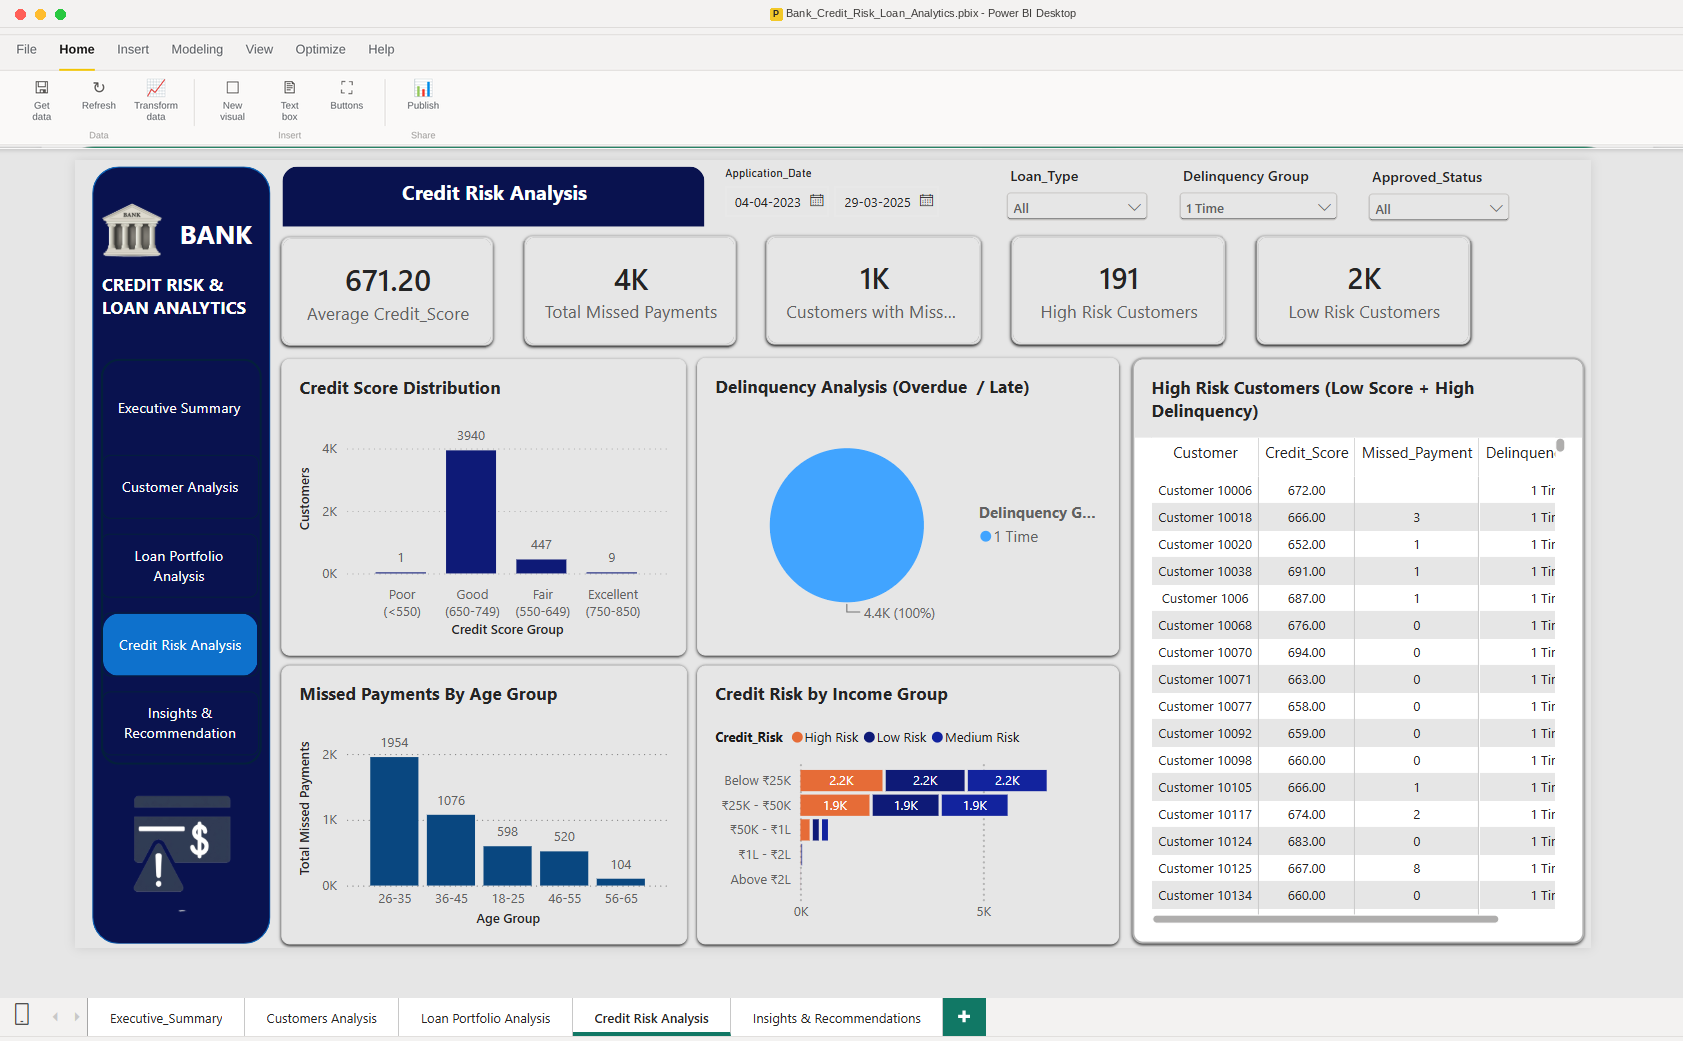

Layout of this report page (visuals, bound fields, positions):
{"tool":"powerbi","page":{"name":"Credit Risk Analysis","canvas":[1404,730],"ordinal":3},"visuals":[{"type":"shape","box":[16.4,6.2,165,720],"z":0},{"type":"image","box":[16.4,27,71.8,77],"z":1000},{"type":"textbox","box":[88.1,51.9,85.3,36.4],"z":2000},{"type":"textbox","box":[24.7,103.9,174.3,55.7],"z":3000},{"type":"shape","box":[23.9,184.1,148.7,375.5],"z":4000},{"type":"actionButton","title":"Executive Summary","box":[23.9,199.7,145,60.3],"z":5000},{"type":"actionButton","title":"Executive Summary","box":[25,272.7,145,60.3],"z":6000},{"type":"actionButton","title":"Executive Summary","box":[23.9,345.8,145,60.3],"z":7000},{"type":"actionButton","title":"Executive Summary","box":[25,418.9,145,60.3],"z":8000},{"type":"actionButton","title":"Executive Summary","box":[25,491.9,145,60.3],"z":9000},{"type":"shape","box":[192.1,6.3,390.5,55.9],"z":10000},{"type":"textbox","box":[223.8,16.9,329.3,34.8],"z":11000},{"type":"slicer","fields":{"Values":["Dim_Customer.Application_Date"]},"box":[594.1,6,233.2,64.3],"z":12000},{"type":"slicer","fields":{"Values":["Fact_loan.Loan_Type"]},"box":[858.4,5,140,60.3],"z":13000},{"type":"slicer","fields":{"Values":["Dim_Customer.Delinquency Group"]},"box":[1017.7,5.3,156.5,59.9],"z":14000},{"type":"cardVisual","fields":{"Data":["Avg(Dim_Customer.Credit_Score)"]},"box":[191,70.7,196.3,101.3],"z":15000},{"type":"slicer","fields":{"Values":["Dim_Customer.Approved_Status"]},"box":[1193.4,6.3,140,60.3],"z":16000},{"type":"cardVisual","fields":{"Data":["Sum(Fact_loan.Tot_Missed_Pmnt)"]},"box":[415.6,70.4,196.3,101.3],"z":17000},{"type":"cardVisual","fields":{"Data":["Dim_Customer.Customers with Missed Payments"]},"box":[640.1,70.4,198.6,100.9],"z":18000},{"type":"cardVisual","fields":{"Data":["Dim_Customer.High Risk Customers"]},"box":[866.9,70.4,198.6,100.9],"z":19000},{"type":"cardVisual","fields":{"Data":["Dim_Customer.Low Risk Customers"]},"box":[1093.6,70.4,198.6,100.9],"z":20000},{"type":"clusteredColumnChart","title":"Credit Score Distribution","fields":{"Category":["Dim_Customer.Credit Score Group"],"Y":["CountNonNull(Dim_Customer.PROSPECTID)"]},"box":[191.2,183.8,375,275.2],"z":21000},{"type":"pieChart","title":"Delinquency Analysis (Overdue  / Late)","fields":{"Category":["Dim_Customer.Delinquency Group"],"Y":["CountNonNull(Dim_Customer.PROSPECTID)"]},"box":[575.6,183.3,391.1,275.6],"z":22000},{"type":"tableEx","title":"High Risk Customers (Low Score + High Delinquency)","fields":{"Values":["Dim_Customer.Customer","Avg(Dim_Customer.Credit_Score)","Sum(Fact_loan.Tot_Missed_Pmnt)","Dim_Customer.Delinquency Group"]},"box":[978.9,183.3,418.9,542.2],"z":23000},{"type":"clusteredColumnChart","title":"Missed Payments By Age Group","fields":{"Category":["Dim_Customer.Age Group"],"Y":["Sum(Fact_loan.Tot_Missed_Pmnt)"]},"box":[191.1,467.8,375.6,258.9],"z":24000},{"type":"barChart","title":"Credit Risk by Income Group","fields":{"Category":["Dim_Customer.Income Group"],"Series":["Fact_loan.Credit_Risk"],"Y":["CountNonNull(Dim_Customer.PROSPECTID)"]},"box":[575.6,467.8,391.1,258.9],"z":25000}]}

Visuals, with their boxes on the page's 1404x730 design canvas (x1, y1, x2, y2). These are canvas units, not pixel positions in the 1683x1041 screenshot, which may show the page scaled, cropped or inside an application window:
shape: bbox=(16, 6, 181, 726)
image: bbox=(16, 27, 88, 104)
textbox: bbox=(88, 52, 173, 88)
textbox: bbox=(25, 104, 199, 160)
shape: bbox=(24, 184, 173, 560)
"Executive Summary" actionButton: bbox=(24, 200, 169, 260)
"Executive Summary" actionButton: bbox=(25, 273, 170, 333)
"Executive Summary" actionButton: bbox=(24, 346, 169, 406)
"Executive Summary" actionButton: bbox=(25, 419, 170, 479)
"Executive Summary" actionButton: bbox=(25, 492, 170, 552)
shape: bbox=(192, 6, 583, 62)
textbox: bbox=(224, 17, 553, 52)
slicer - Dim_Customer.Application_Date: bbox=(594, 6, 827, 70)
slicer - Fact_loan.Loan_Type: bbox=(858, 5, 998, 65)
slicer - Dim_Customer.Delinquency Group: bbox=(1018, 5, 1174, 65)
cardVisual - Avg(Dim_Customer.Credit_Score): bbox=(191, 71, 387, 172)
slicer - Dim_Customer.Approved_Status: bbox=(1193, 6, 1333, 67)
cardVisual - Sum(Fact_loan.Tot_Missed_Pmnt): bbox=(416, 70, 612, 172)
cardVisual - Dim_Customer.Customers with Missed Payments: bbox=(640, 70, 839, 171)
cardVisual - Dim_Customer.High Risk Customers: bbox=(867, 70, 1066, 171)
cardVisual - Dim_Customer.Low Risk Customers: bbox=(1094, 70, 1292, 171)
"Credit Score Distribution" clusteredColumnChart: bbox=(191, 184, 566, 459)
"Delinquency Analysis (Overdue  / Late)" pieChart: bbox=(576, 183, 967, 459)
"High Risk Customers (Low Score + High Delinquency)" tableEx: bbox=(979, 183, 1398, 726)
"Missed Payments By Age Group" clusteredColumnChart: bbox=(191, 468, 567, 727)
"Credit Risk by Income Group" barChart: bbox=(576, 468, 967, 727)
